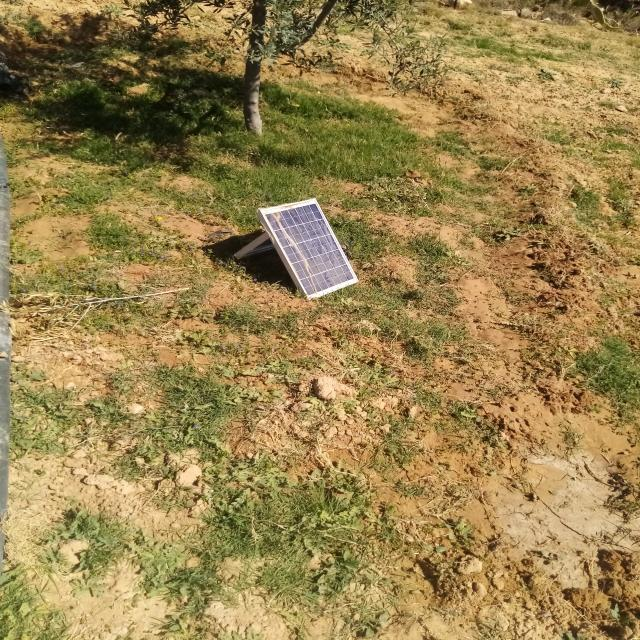faulty: (261, 199, 358, 300)
